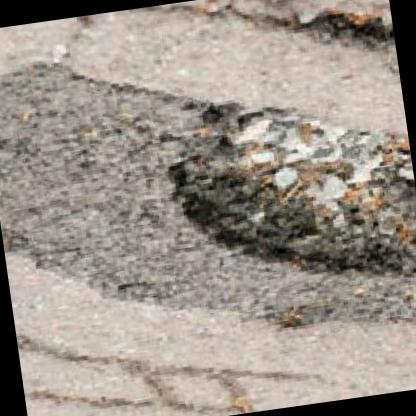pothole: (154, 76, 416, 309), (299, 0, 395, 61)
